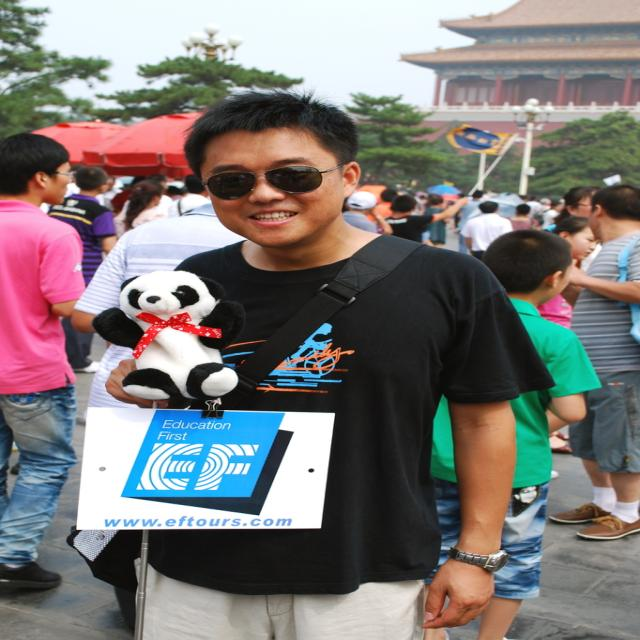panda: (90, 262, 238, 416)
